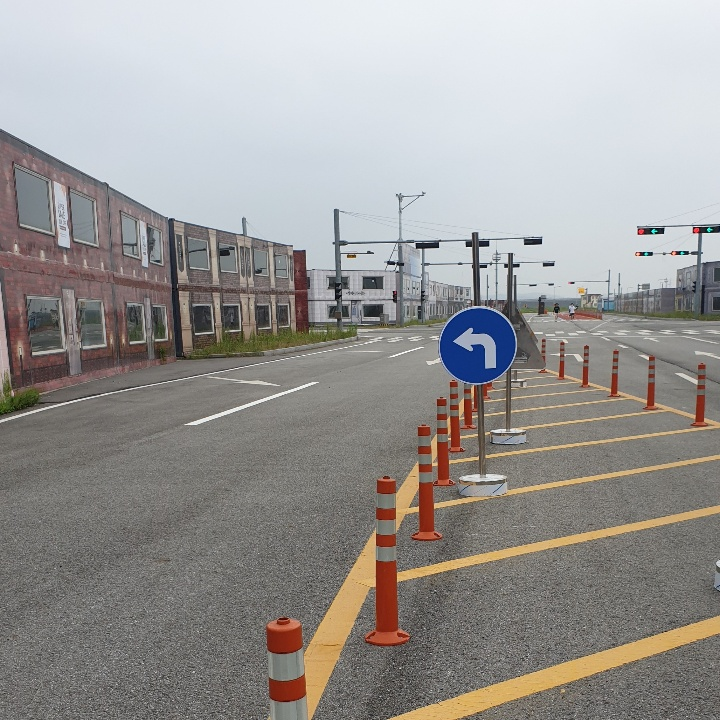left: (449, 322, 502, 375)
